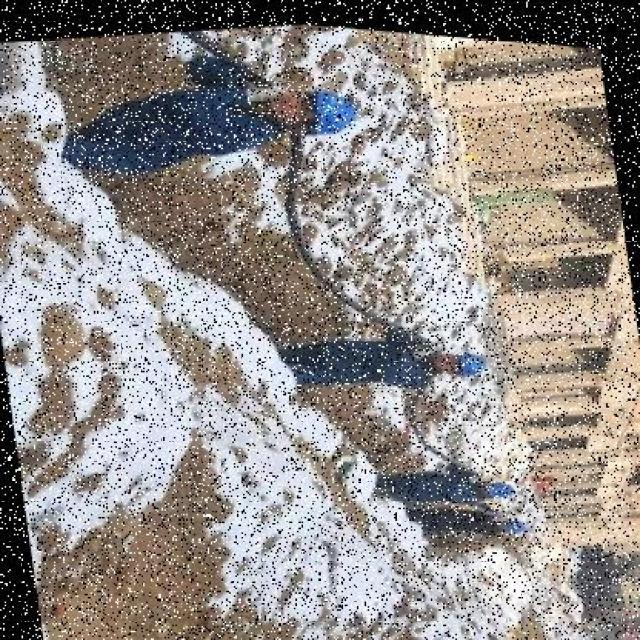helmet: (297, 73, 361, 137), (453, 339, 490, 373), (481, 468, 513, 496)
